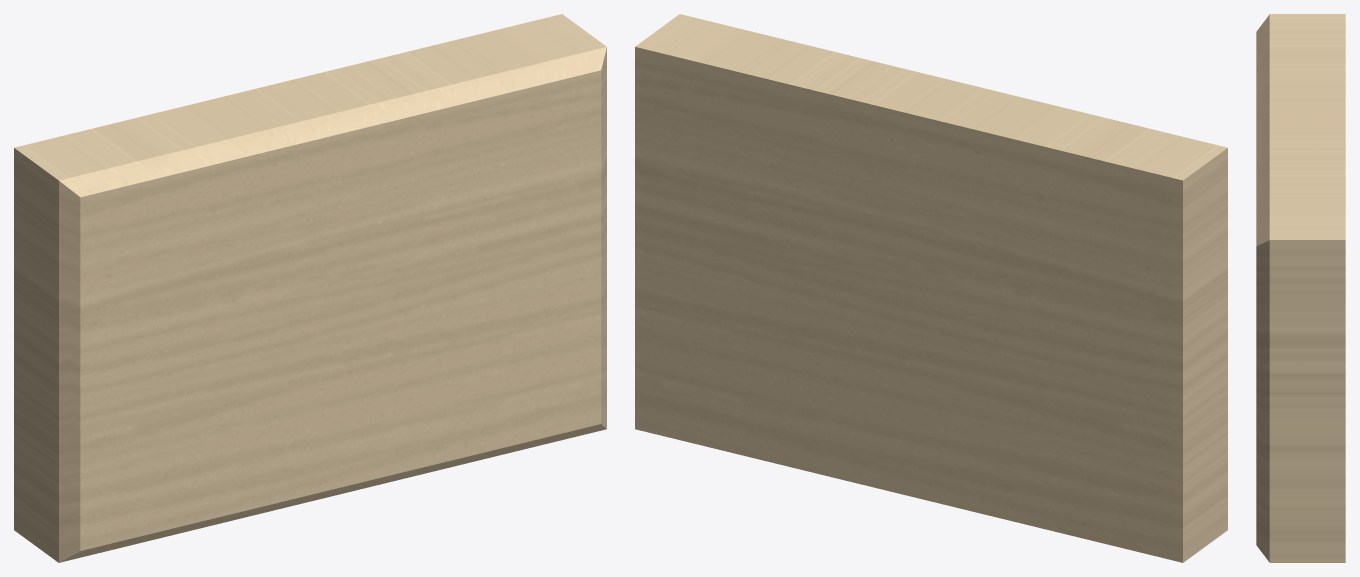
File: tab.glb
The picture shows the model from 3 angles, left to right: view 1: azimuth 30°, elevation 25°; view 2: azimuth 150°, elevation 25°; view 3: azimuth 270°, elevation 25°; orthographic projection. The views are drawn at different scales.
Visible parts, largest first — view 1: tab; view 2: tab; view 3: tab.
Part boxes in pixels (x1,y1,x2,y2): tab: (14, 14, 606, 562); tab: (635, 14, 1227, 562); tab: (1256, 14, 1345, 562).
Bounding box in the file's own units: 0.06 × 0.04 × 0.01.
Materials: 1 (1 with a texture image).
